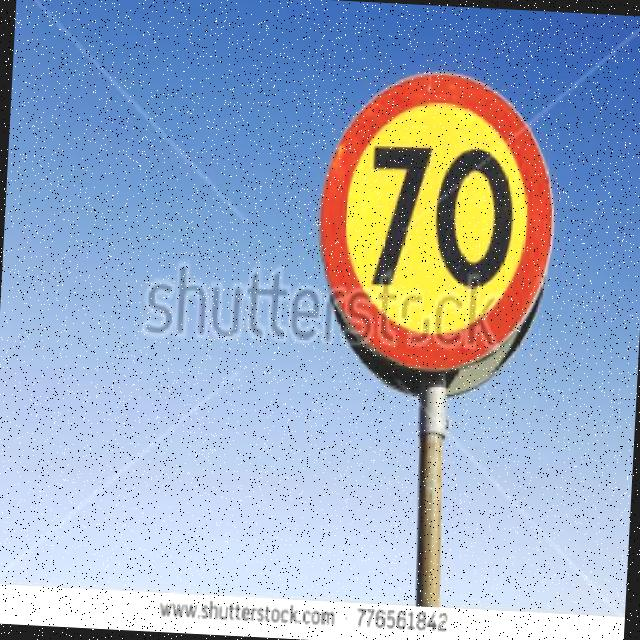Ograniczenie predkosci do 70: (324, 68, 546, 361)
